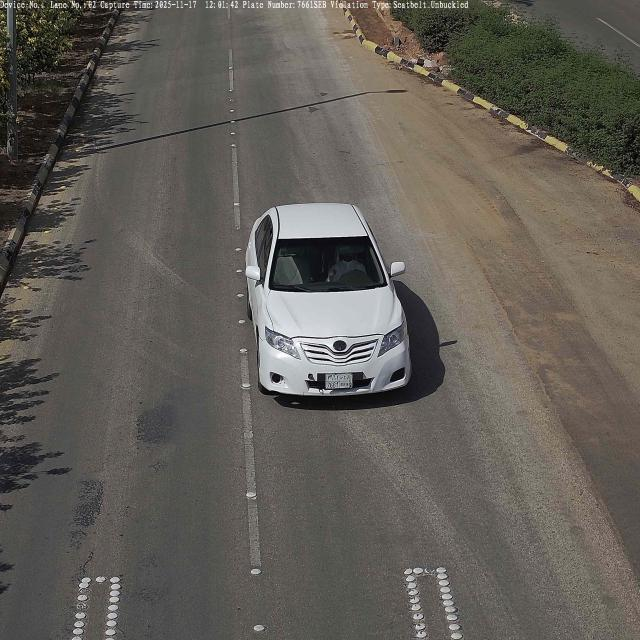person_without_seatbelt: (329, 245, 367, 286)
